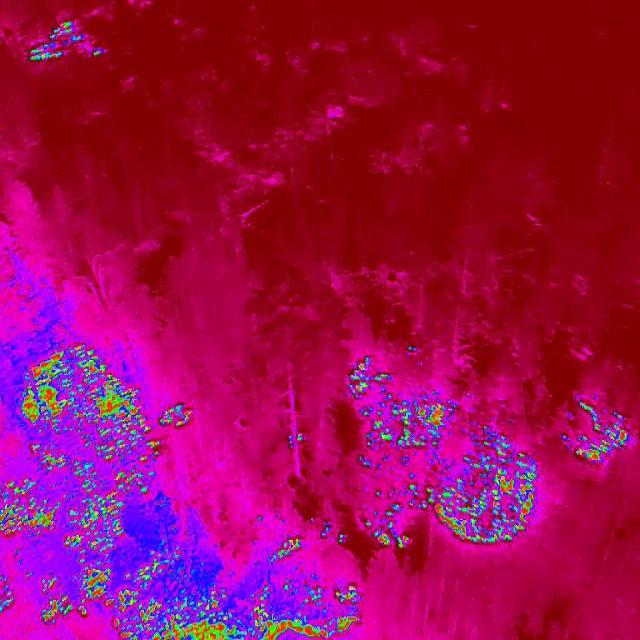fire: (0, 336, 161, 640), (348, 426, 538, 552), (162, 491, 254, 640), (346, 353, 460, 426), (252, 580, 366, 640), (564, 392, 632, 461), (22, 15, 112, 66), (266, 539, 302, 567), (160, 400, 190, 428)
